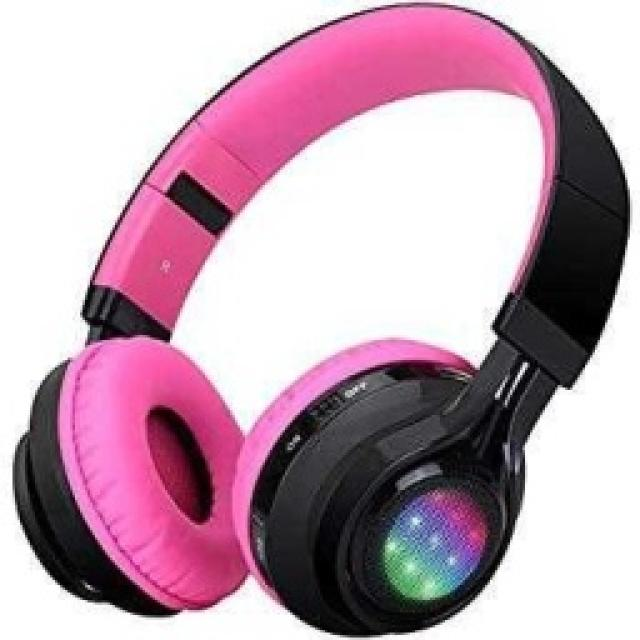headphones: (10, 0, 632, 638)
